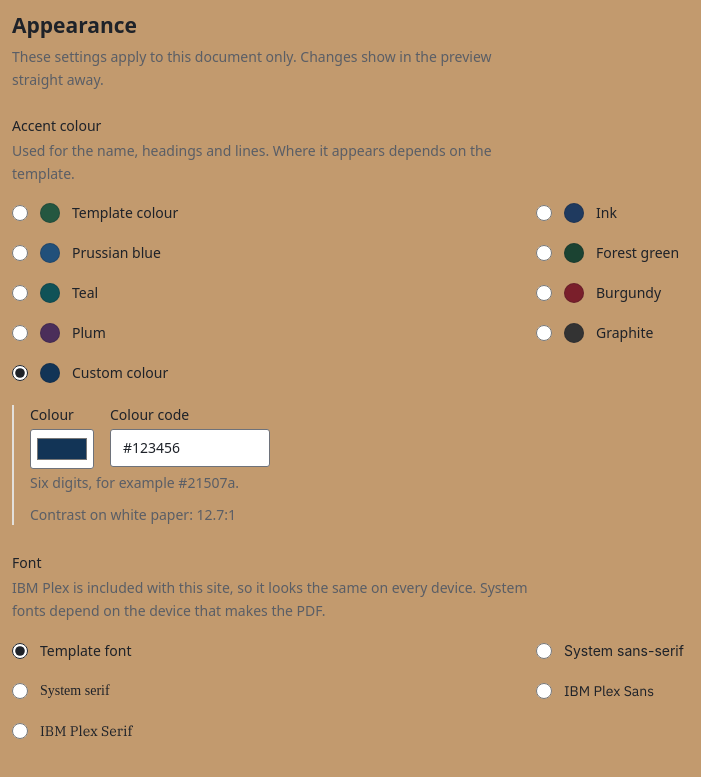
Test case: DesignPanel appearance › only applies complete codes, explains invalid ones and expands short ones on blur
expect the radio button labelled "Custom colour" is checked: met, box [12,365,28,381]
Replace the text in the field labelled "Colour code" with "#12" at (190, 448), box [110,429,270,467]
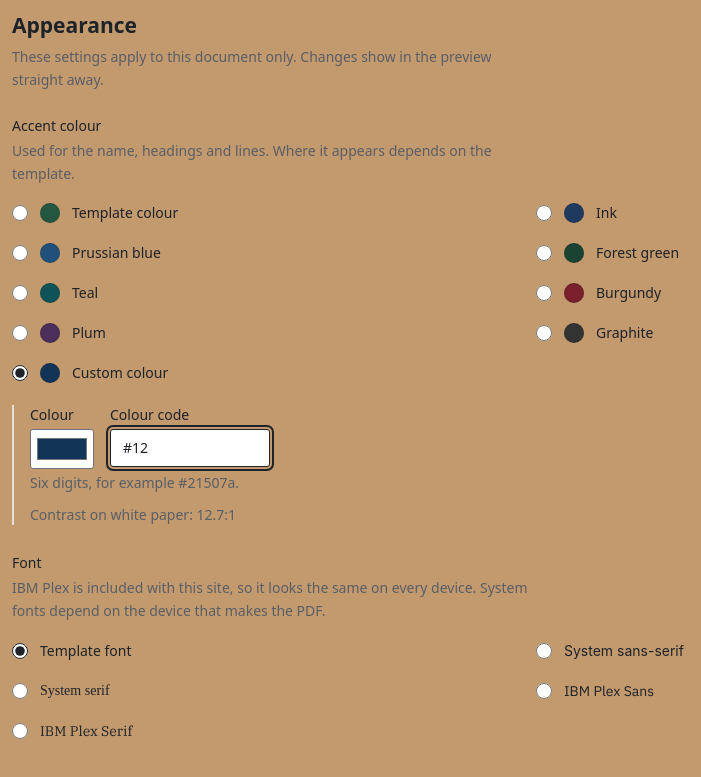
Press Tab
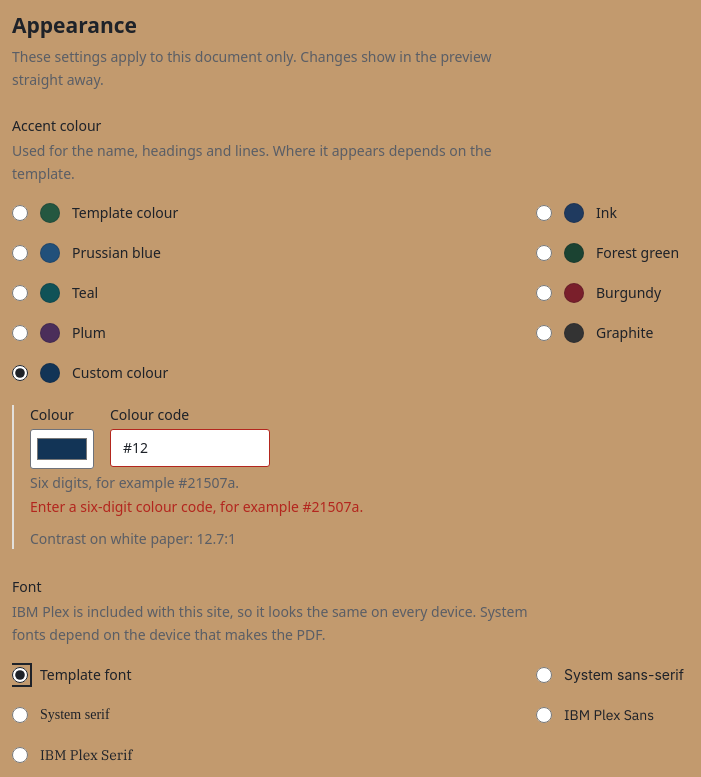
expect the message reads "Enter a six-digit colour code, for example #21507a.": met, box [30,497,363,516]
Replace the text in the field labelled "Colour code" with "abc" at (190, 448), box [110,429,270,467]
Then press Enter
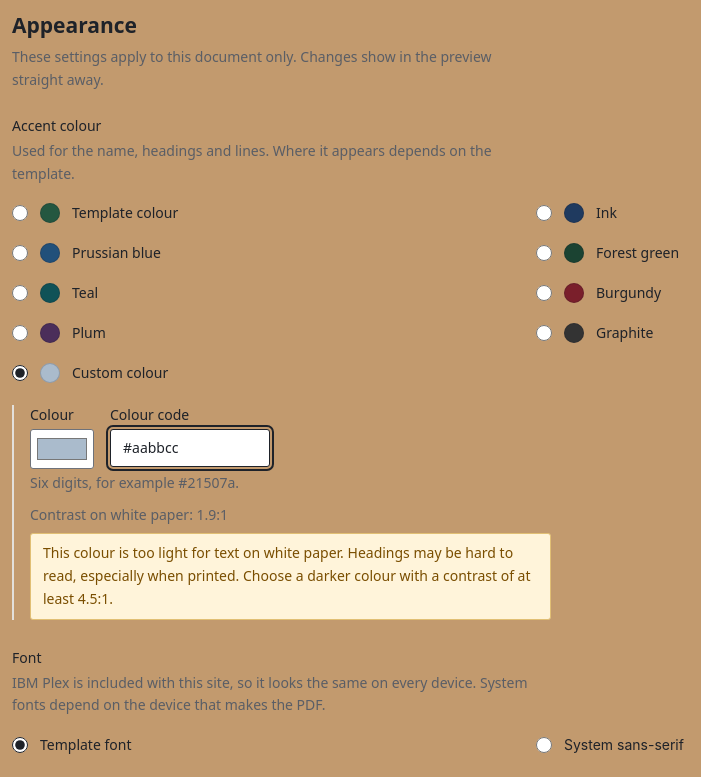
expect the field labelled "Colour code" holds "#aabbcc": met, box [110,429,270,467]
expect the message "Enter a six-digit colour code, for example #21507a." is gone: met
